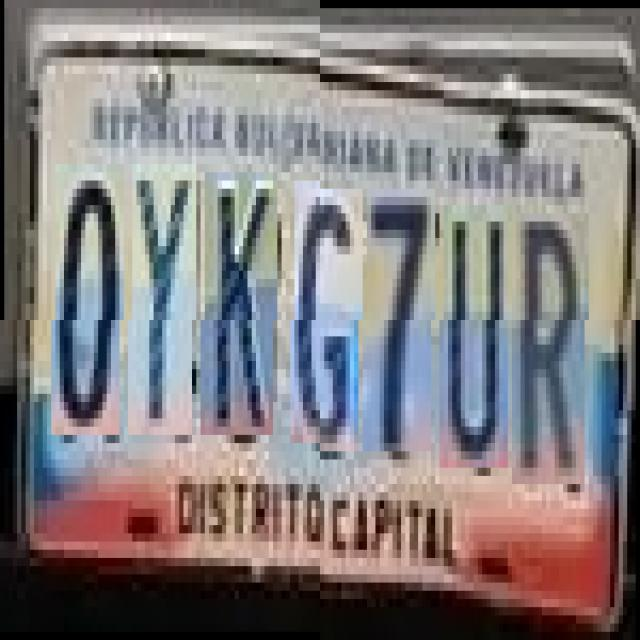7: (367, 188, 435, 452)
G: (294, 188, 363, 452)
K: (205, 180, 278, 444)
O: (55, 172, 124, 443)
R: (516, 213, 589, 484)
U: (443, 205, 512, 468)
Y: (132, 172, 196, 443)
